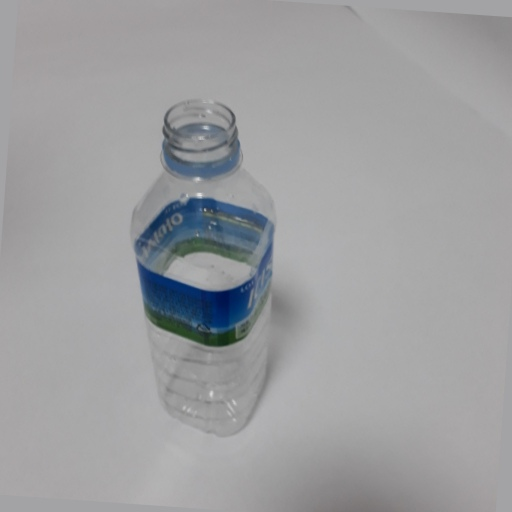Plastic_0: (130, 96, 286, 441)
